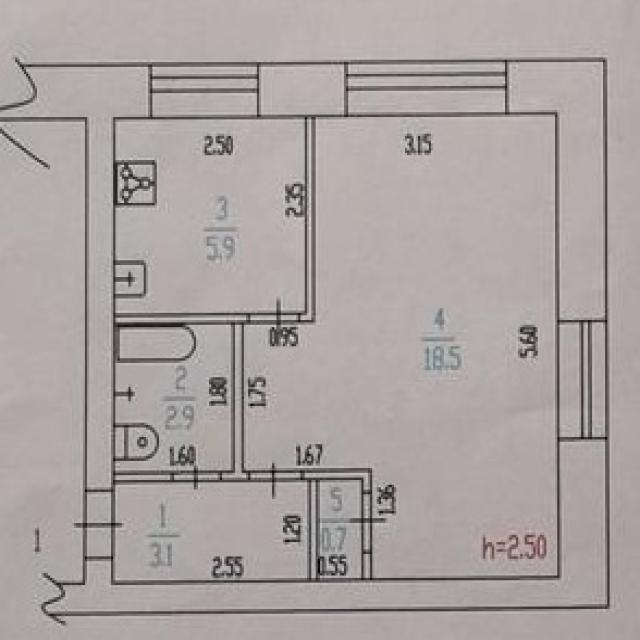Bathrooms: (116, 327, 231, 471)
Corridors: (117, 485, 306, 579), (322, 480, 359, 576)
Doors: (72, 490, 127, 559), (248, 298, 300, 350), (347, 491, 389, 553), (249, 462, 302, 500), (172, 462, 223, 492)
LBwalls: (40, 439, 610, 629), (0, 55, 152, 490), (507, 58, 609, 321), (259, 62, 347, 117)
Offices: (244, 115, 557, 577), (116, 118, 304, 311)
Walls: (303, 468, 373, 579), (219, 324, 250, 483), (299, 116, 316, 324), (115, 314, 246, 324), (115, 472, 172, 482), (361, 552, 373, 579)
Windows: (344, 60, 507, 116), (555, 319, 609, 441), (148, 62, 260, 118)
